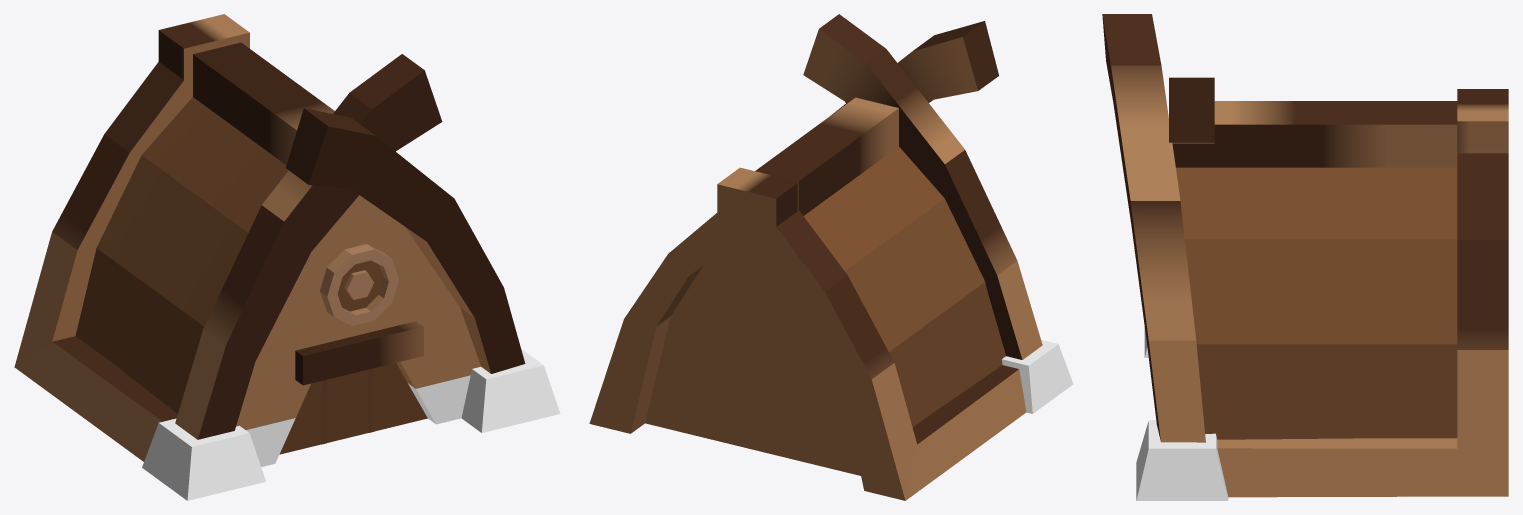
File: Building_ArmyCamp_Lv2.fbx
The picture shows the model from 3 angles, left to right: view 1: azimuth 30°, elevation 25°; view 2: azimuth 150°, elevation 25°; view 3: azimuth 270°, elevation 25°; orthographic projection. The views are drawn at different scales.
Parts seen in each view (by area): view 1: Building_ArmyCamp_Lv2; view 2: Building_ArmyCamp_Lv2; view 3: Building_ArmyCamp_Lv2.
Part boxes in pixels (x1,y1,x2,y2): Building_ArmyCamp_Lv2: (14, 14, 560, 500); Building_ArmyCamp_Lv2: (589, 14, 1073, 500); Building_ArmyCamp_Lv2: (1102, 14, 1508, 500).
Bounding box in the file's own units: 0.7842 × 0.7347 × 0.7409.
